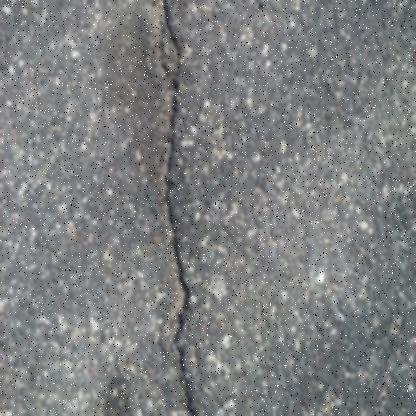Cracks: (157, 0, 200, 416)
